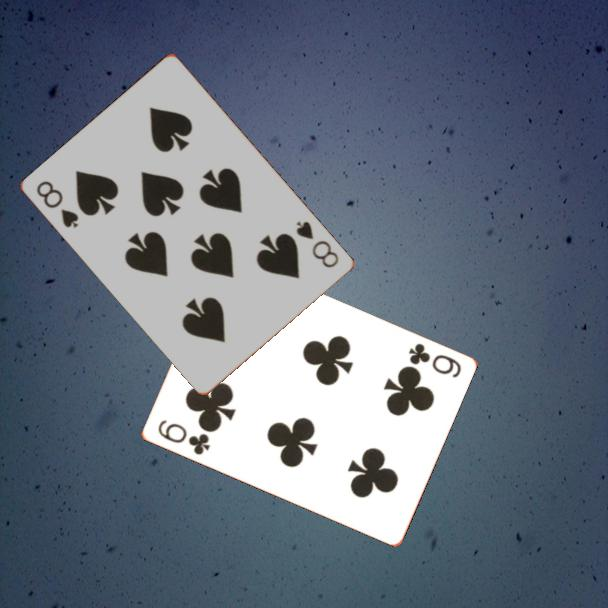c06: (154, 416, 213, 458), (404, 340, 464, 381)
s08: (293, 217, 342, 271), (33, 177, 82, 231)
